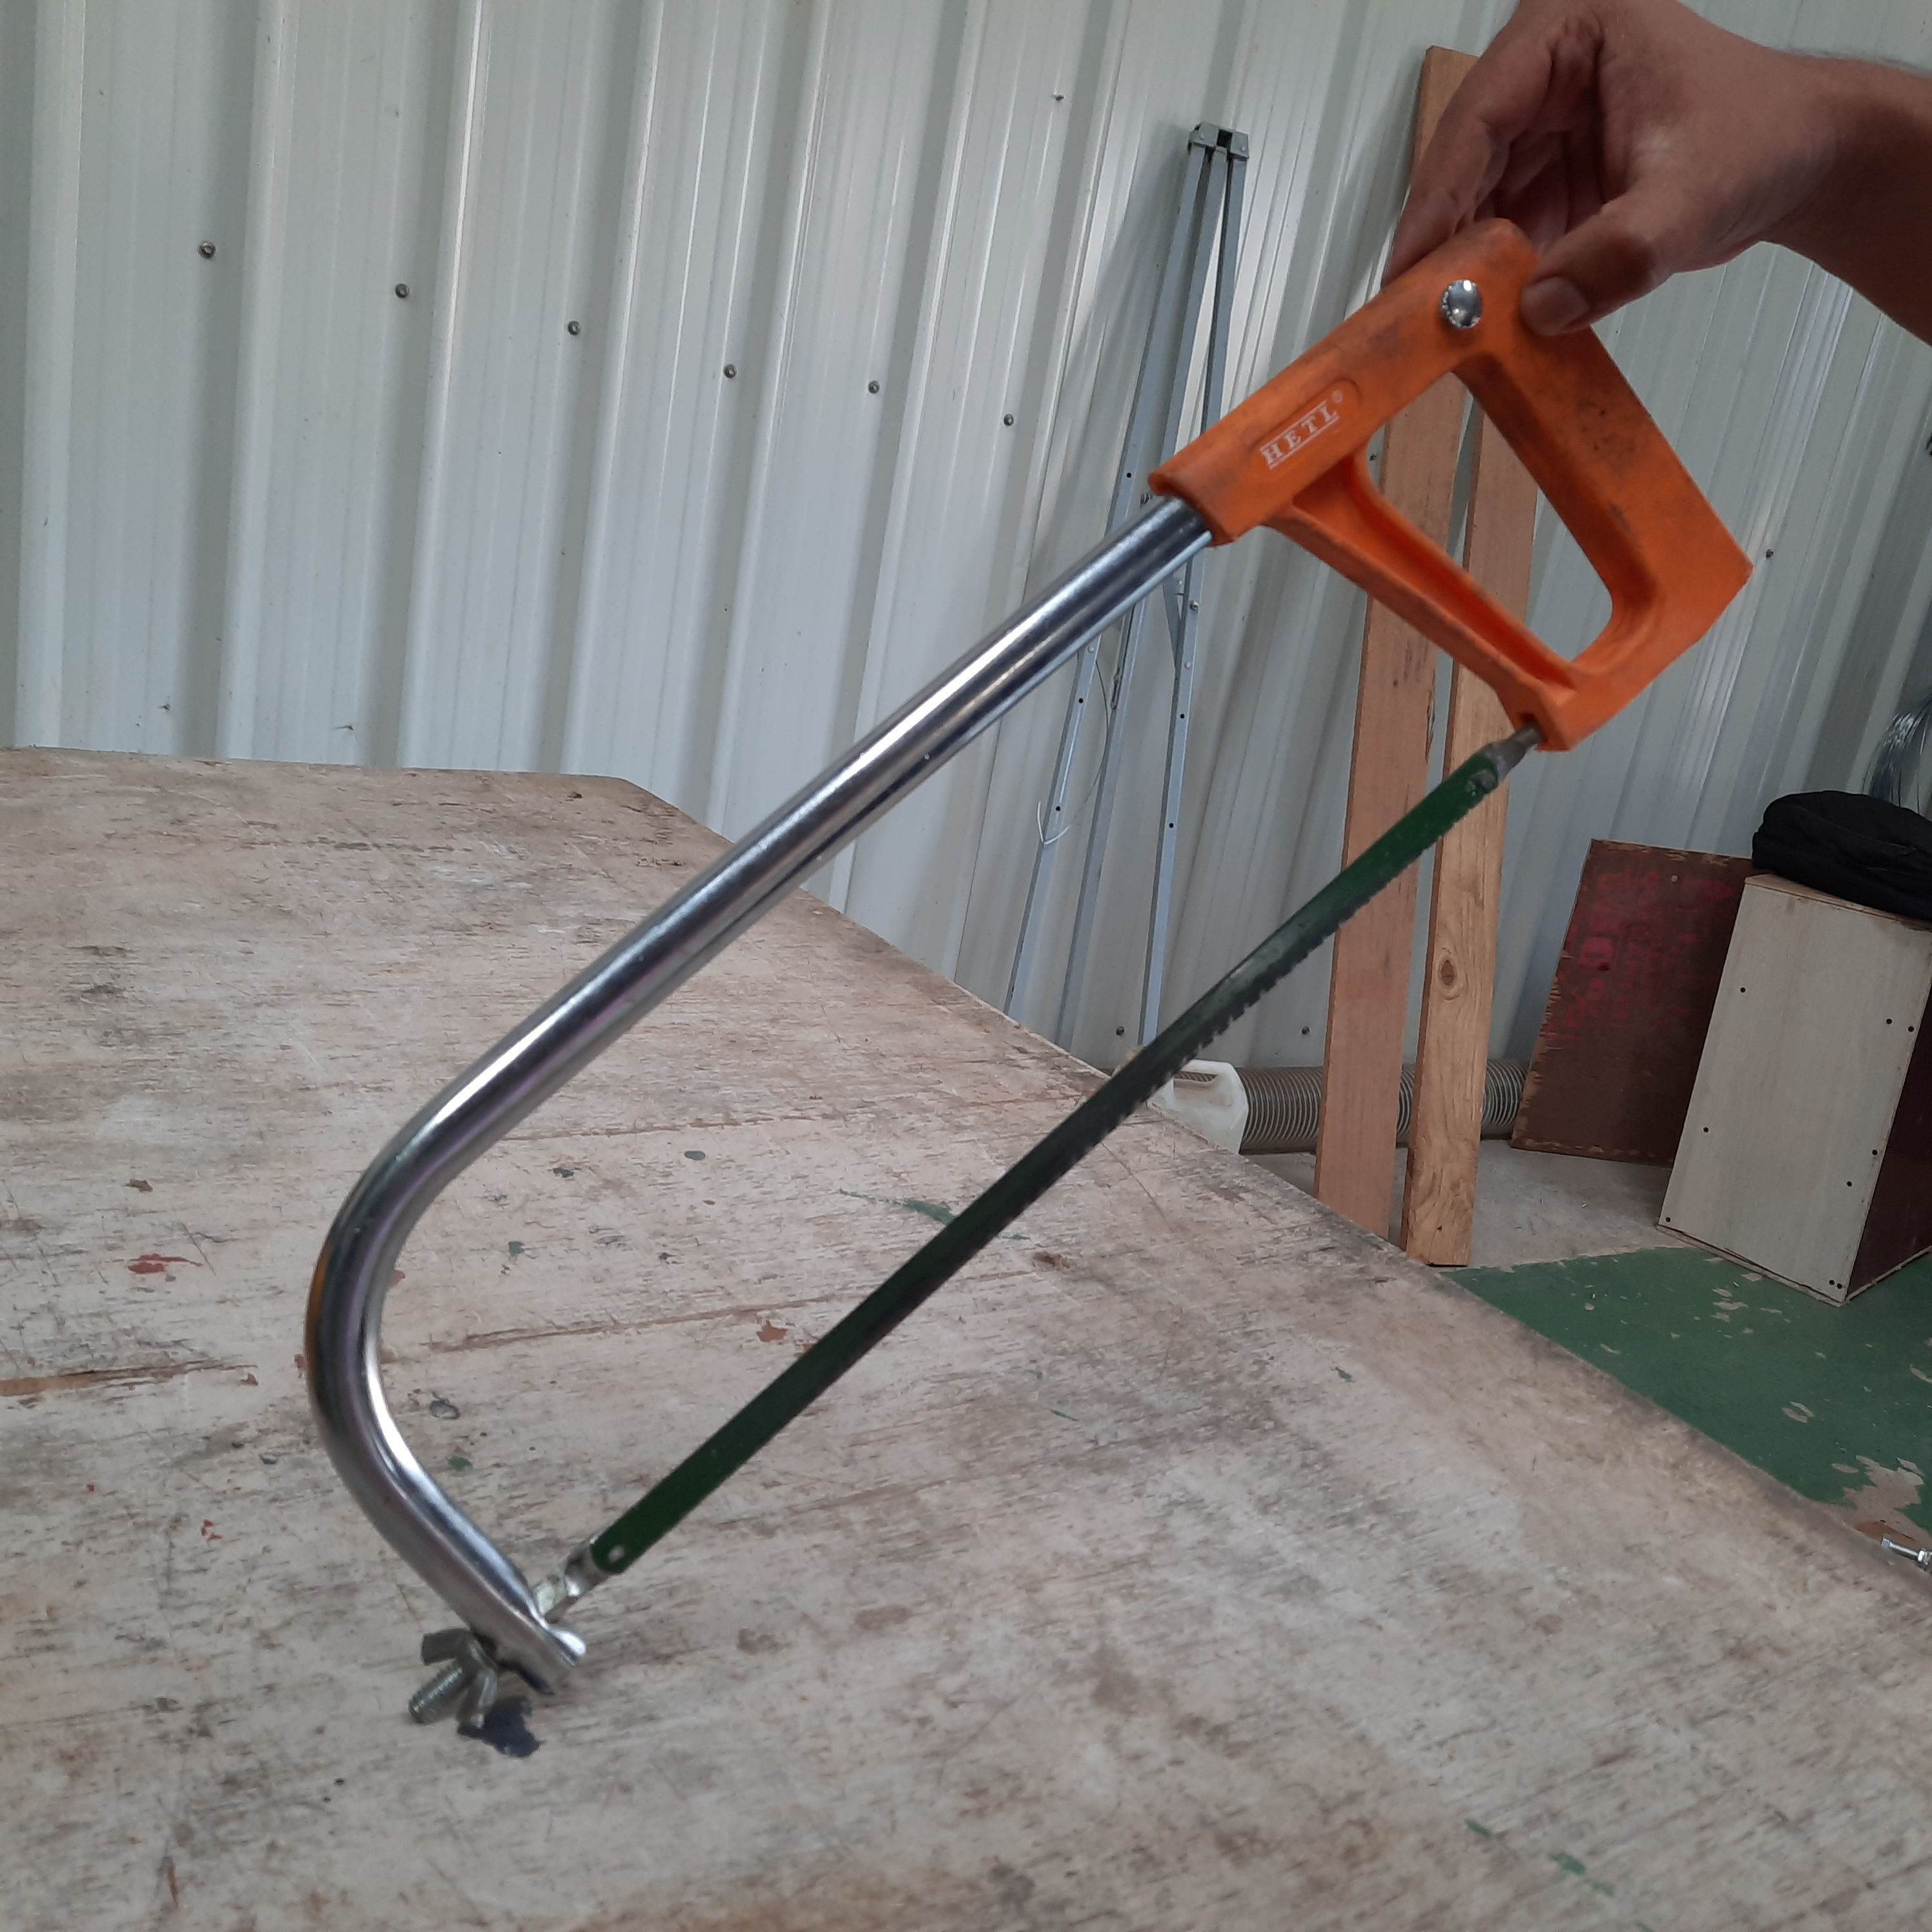Hexaframe: (246, 216, 1773, 1852)
